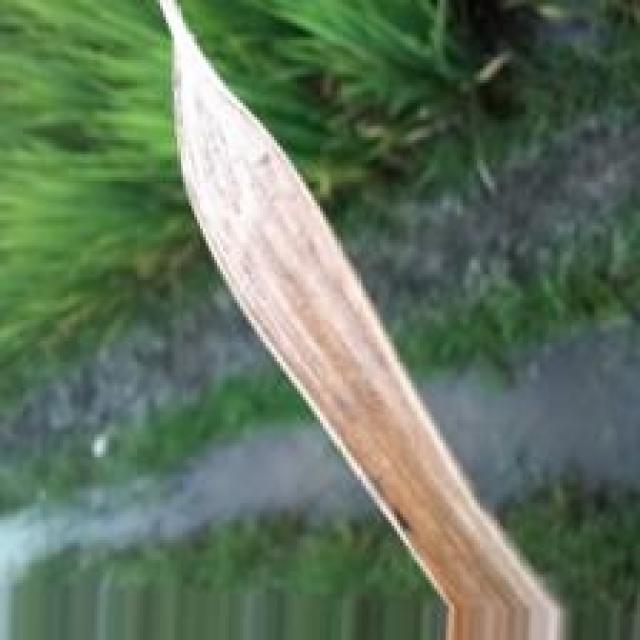Leaf_Scald: (171, 0, 569, 640)
